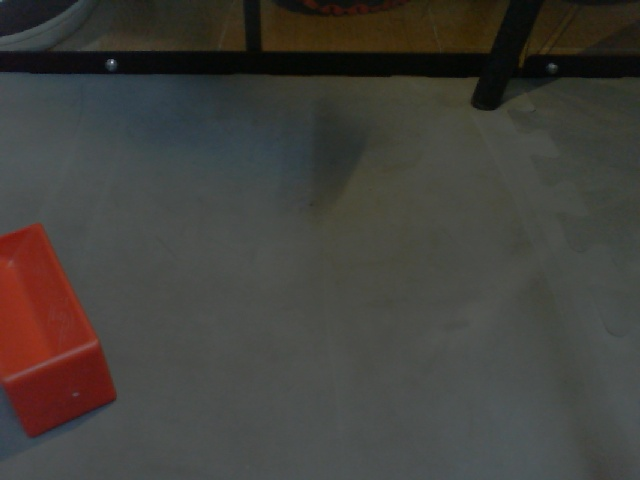RedSample: (1, 221, 118, 440)
